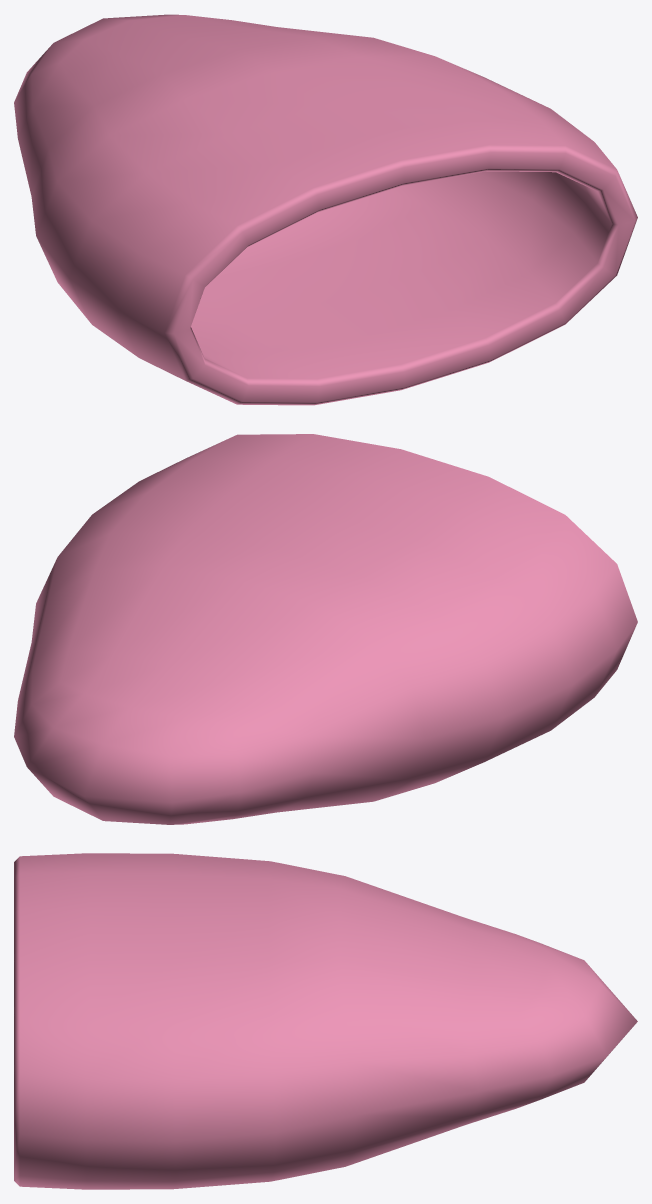
The model's file is Squid_1_Fillet_2.fbx.
3 renders of one model, top to bottom at view 1: azimuth 30°, elevation 25°; view 2: azimuth 150°, elevation 25°; view 3: azimuth 270°, elevation 25°, orthographic. The views are drawn at different scales.
Visible parts, largest first — view 1: Squid_1_Fillet_2; view 2: Squid_1_Fillet_2; view 3: Squid_1_Fillet_2.
Boxes of the visible parts, <box> form: Squid_1_Fillet_2: <box>14,14,637,405</box>; Squid_1_Fillet_2: <box>14,434,637,824</box>; Squid_1_Fillet_2: <box>14,853,637,1189</box>.
Bounding box in the file's own units: 12.25 × 5.34 × 13.48.
